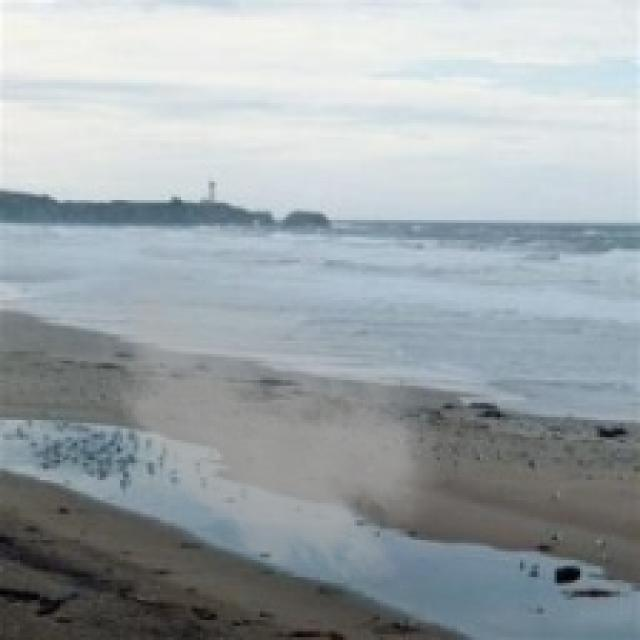Smoke: (74, 202, 460, 594)
